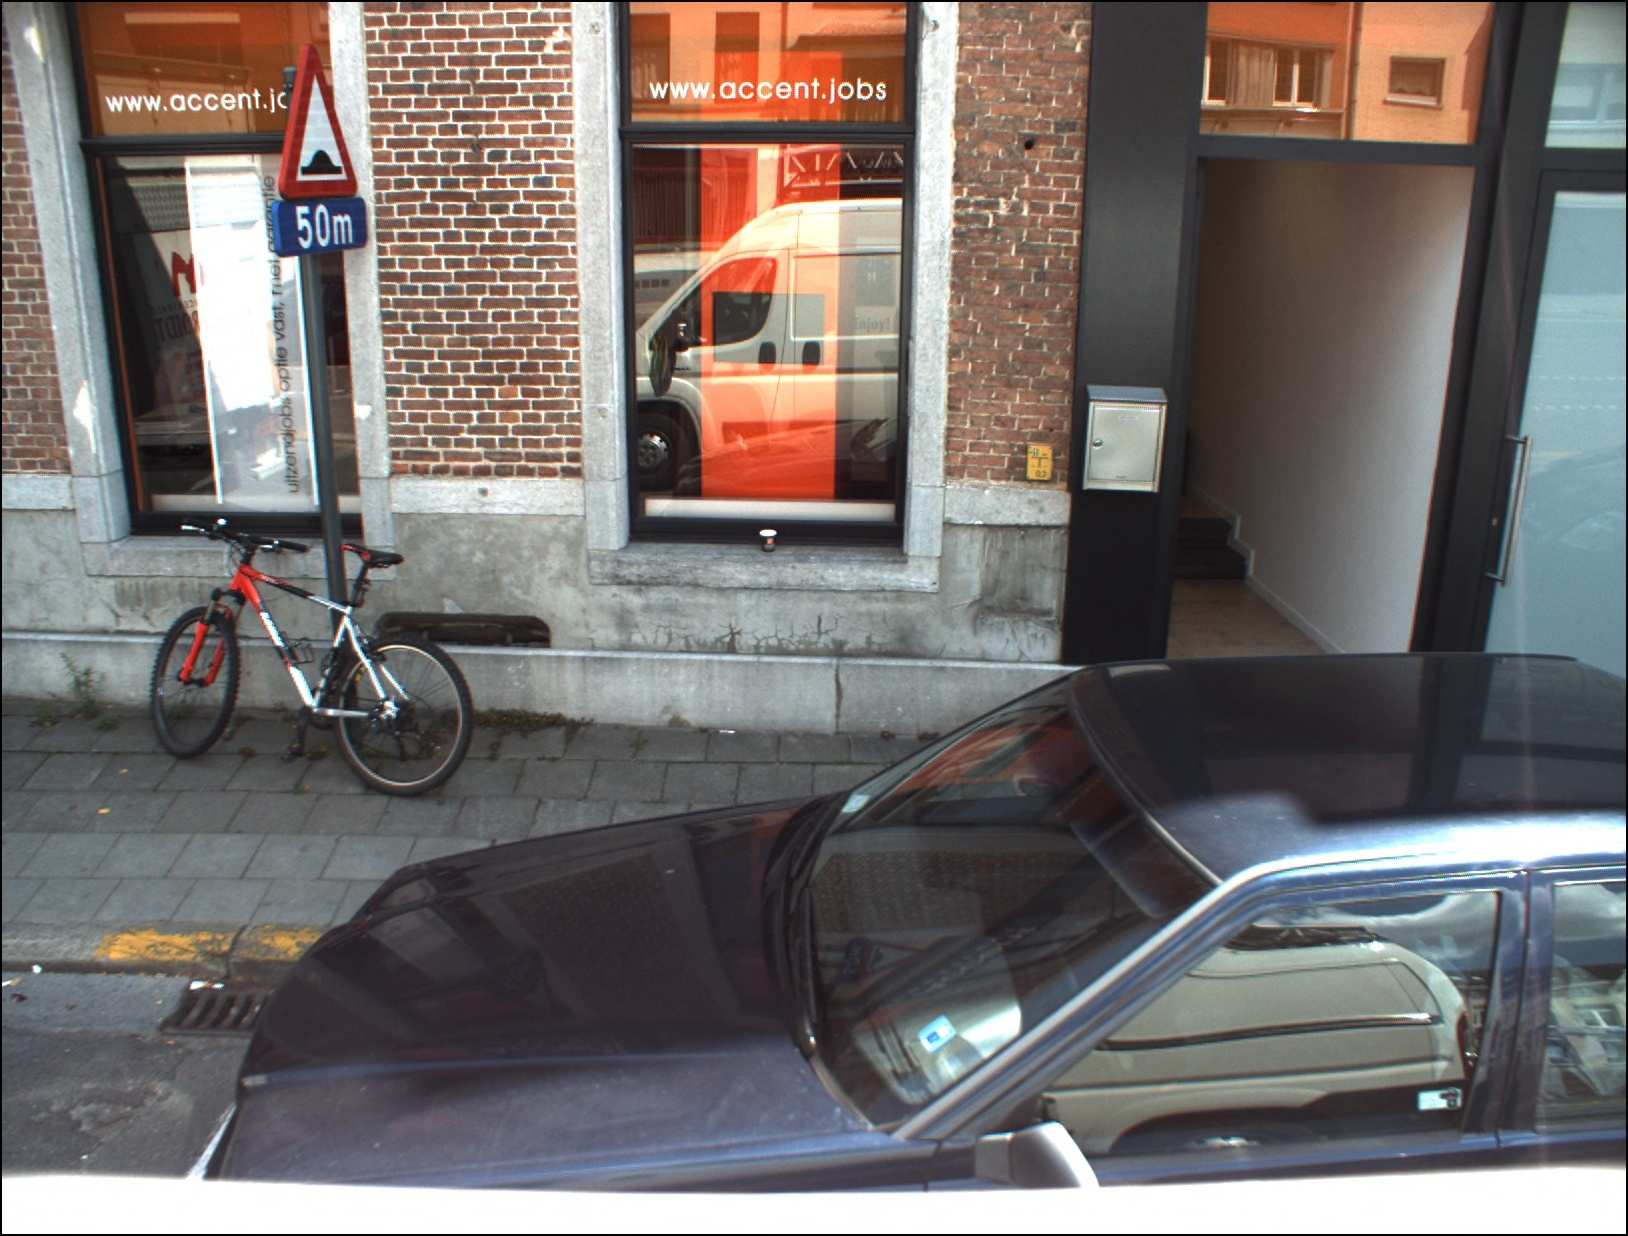speedbump: (273, 42, 361, 201)
